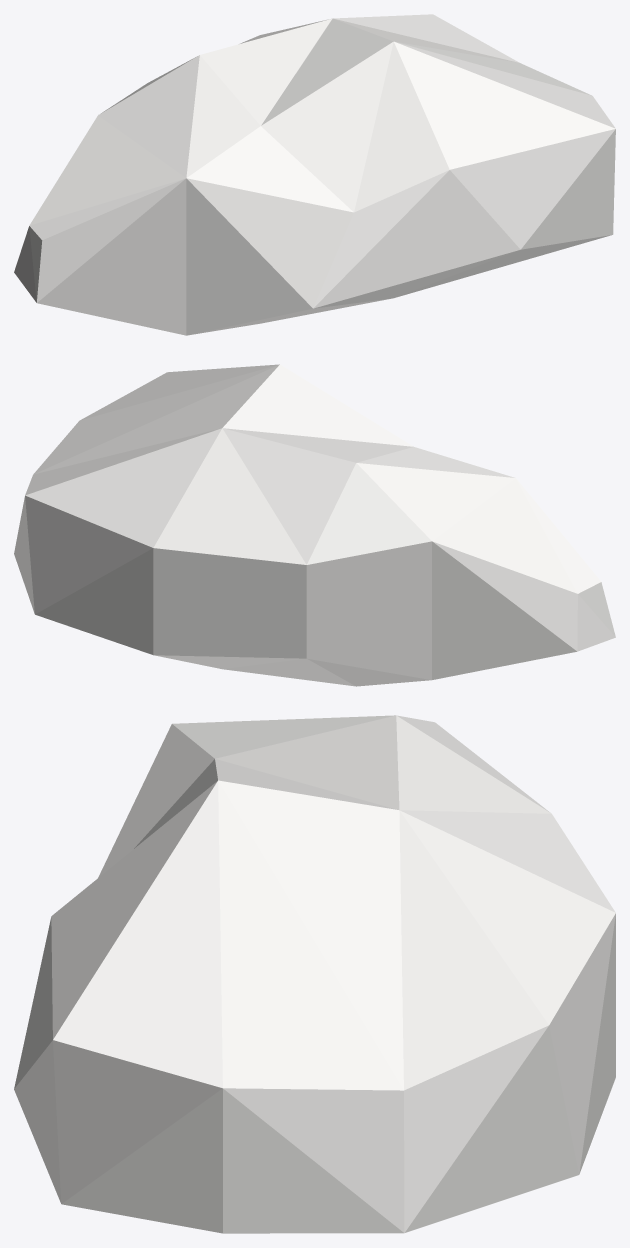
Rendered from Isl_2_Cloud_2.fbx.
The picture shows the model from 3 angles, top to bottom: view 1: azimuth 30°, elevation 25°; view 2: azimuth 150°, elevation 25°; view 3: azimuth 270°, elevation 25°; orthographic projection. The views are drawn at different scales.
Visible parts, largest first — view 1: Isl_2_Cloud_2; view 2: Isl_2_Cloud_2; view 3: Isl_2_Cloud_2.
Part boxes in pixels (left/top/right/bottom): Isl_2_Cloud_2: left=14, top=14, right=615, bottom=335; Isl_2_Cloud_2: left=14, top=364, right=615, bottom=686; Isl_2_Cloud_2: left=14, top=715, right=615, bottom=1233.
Size of the model in its own units: 394 by 243 by 179.
Materials: 1 (1 with a texture image).
